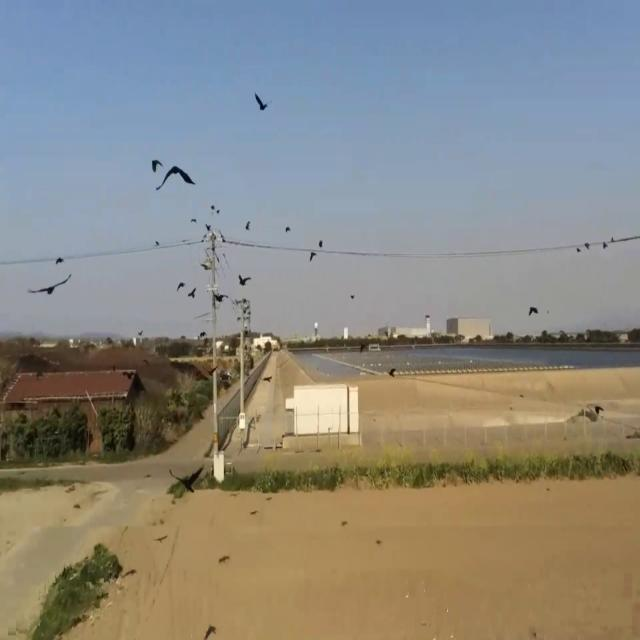bird: (160, 156, 193, 202), (31, 270, 67, 306), (254, 89, 270, 117), (212, 288, 225, 314), (238, 268, 250, 292), (528, 298, 539, 321), (152, 154, 161, 180), (177, 277, 186, 296), (188, 283, 196, 304), (309, 247, 316, 266), (389, 365, 395, 382), (602, 238, 608, 254), (584, 240, 590, 253), (246, 216, 250, 234), (576, 244, 581, 256), (318, 236, 322, 251)
